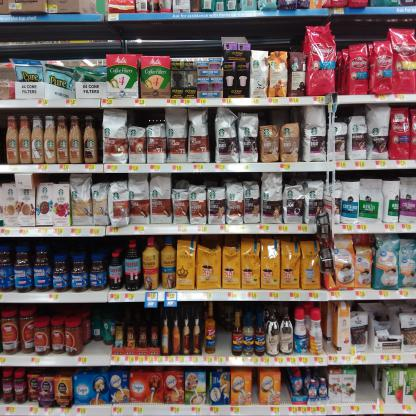Void: (261, 109, 302, 125), (132, 109, 163, 127), (357, 369, 373, 400), (217, 320, 228, 358), (86, 339, 106, 359)
